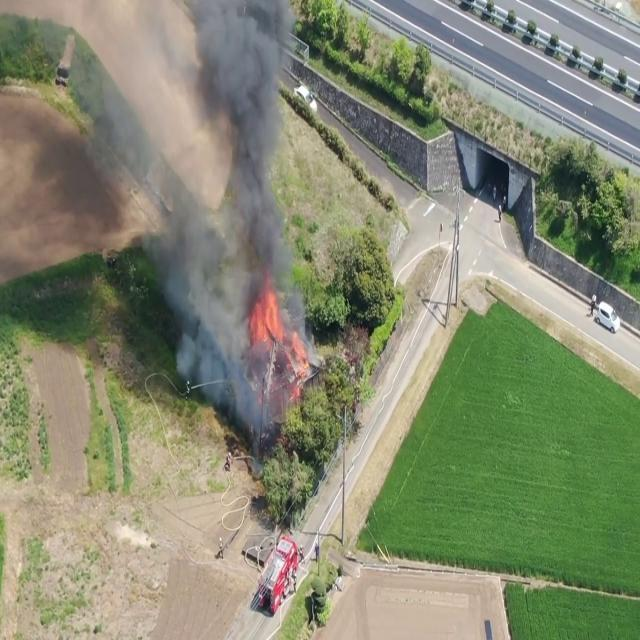Fire: (249, 279, 311, 396)
Smoke: (0, 0, 310, 402)
